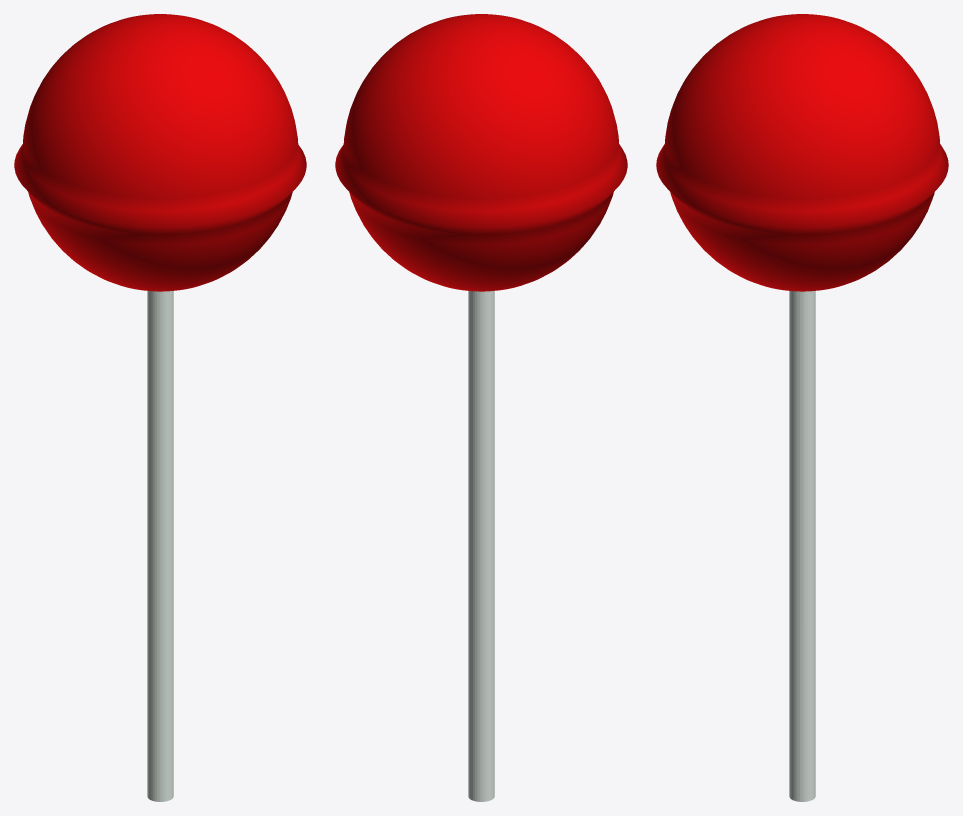
File: lollipop.fbx
The picture shows the model from 3 angles, left to right: view 1: azimuth 30°, elevation 25°; view 2: azimuth 150°, elevation 25°; view 3: azimuth 270°, elevation 25°; orthographic projection.
Parts seen in each view (by area): view 1: loly pop, Cylinder; view 2: loly pop, Cylinder; view 3: loly pop, Cylinder.
Boxes of the visible parts, x1,y1,x2,y2 form: loly pop: [14, 14, 306, 291]; Cylinder: [147, 291, 173, 801]; loly pop: [335, 14, 627, 291]; Cylinder: [468, 291, 494, 801]; loly pop: [656, 14, 948, 291]; Cylinder: [789, 291, 815, 801].
Size of the model in its own units: 2.23 by 6.48 by 2.23.
